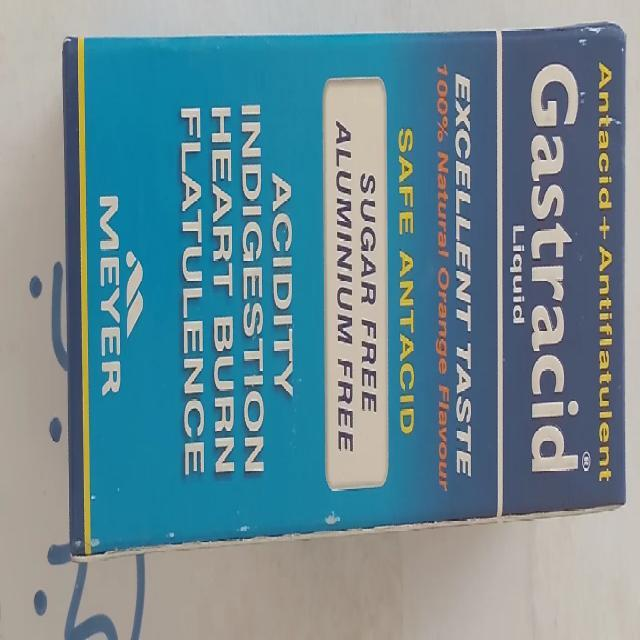drug-name: (530, 57, 591, 477)
